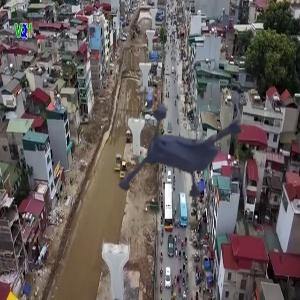drone: (120, 64, 270, 214)
